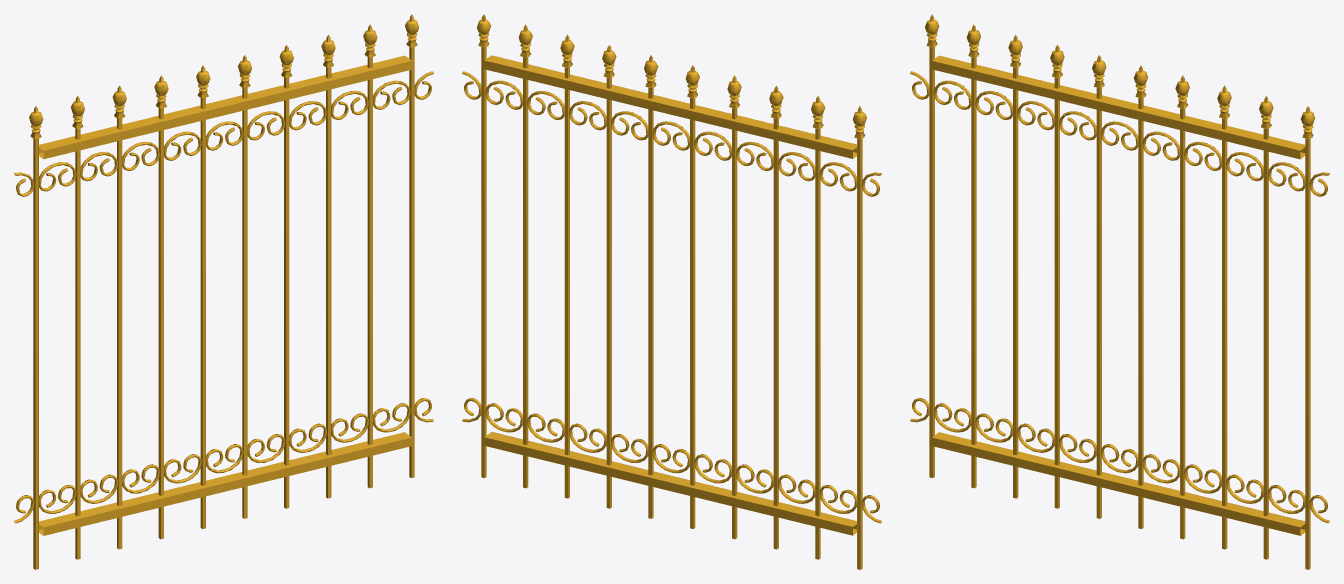
File: fence.glb
3 renders of one model, left to right at view 1: azimuth 30°, elevation 25°; view 2: azimuth 150°, elevation 25°; view 3: azimuth 330°, elevation 25°, orthographic.
Parts seen in each view (by area): view 1: 13080_Wrought_Iron_fence_with_brick_v1_L2; view 2: 13080_Wrought_Iron_fence_with_brick_v1_L2; view 3: 13080_Wrought_Iron_fence_with_brick_v1_L2.
Boxes of the visible parts, bbox=[...] form: 13080_Wrought_Iron_fence_with_brick_v1_L2: bbox=[14, 14, 433, 569]; 13080_Wrought_Iron_fence_with_brick_v1_L2: bbox=[462, 14, 881, 569]; 13080_Wrought_Iron_fence_with_brick_v1_L2: bbox=[910, 14, 1329, 569].
Size of the model in its own units: 1.2 by 1.27 by 0.0378.
